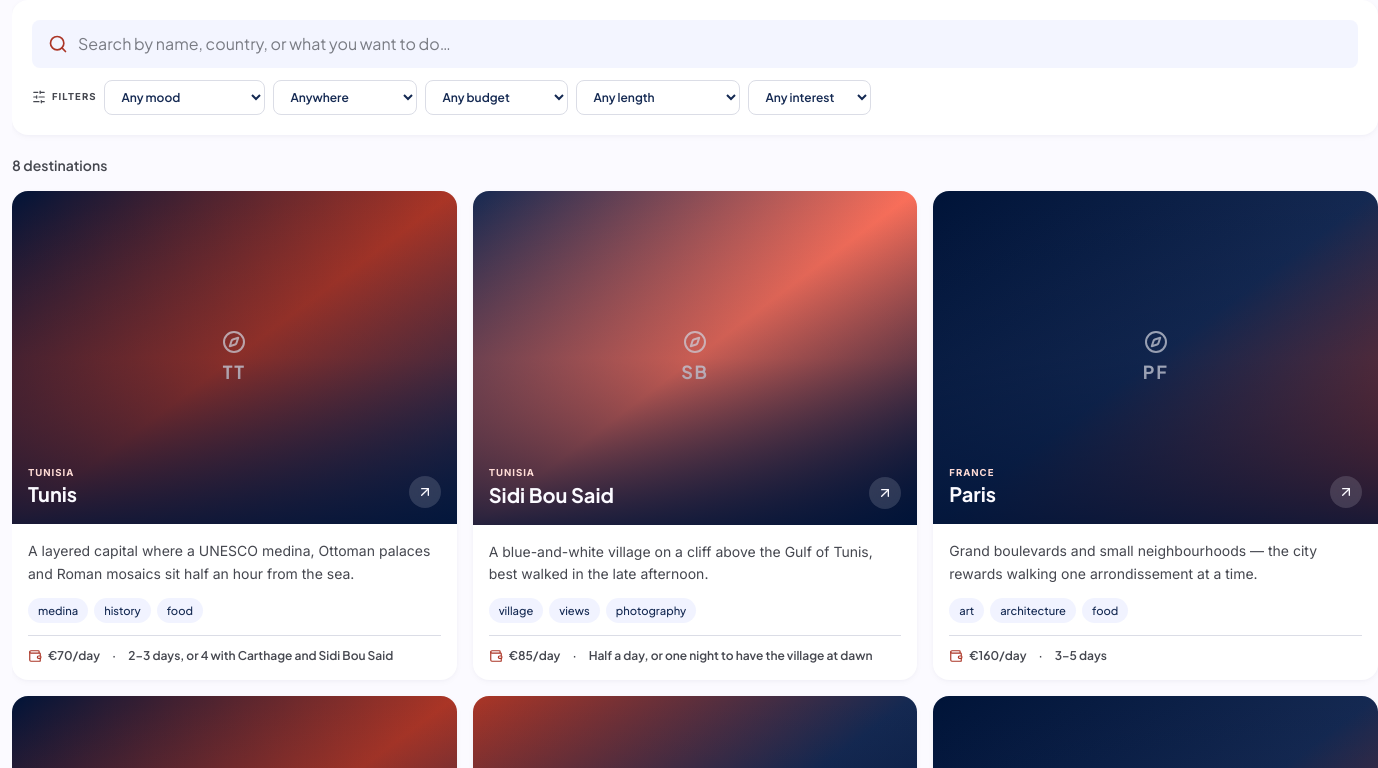
Test: DestinationExplorer › filters as you type, across name, country and tags
The width and height of the screenshot is (1378, 768).
Type "japan" into the search field.
click(710, 44); type("japan")  # box 78,32 -> 1342,56
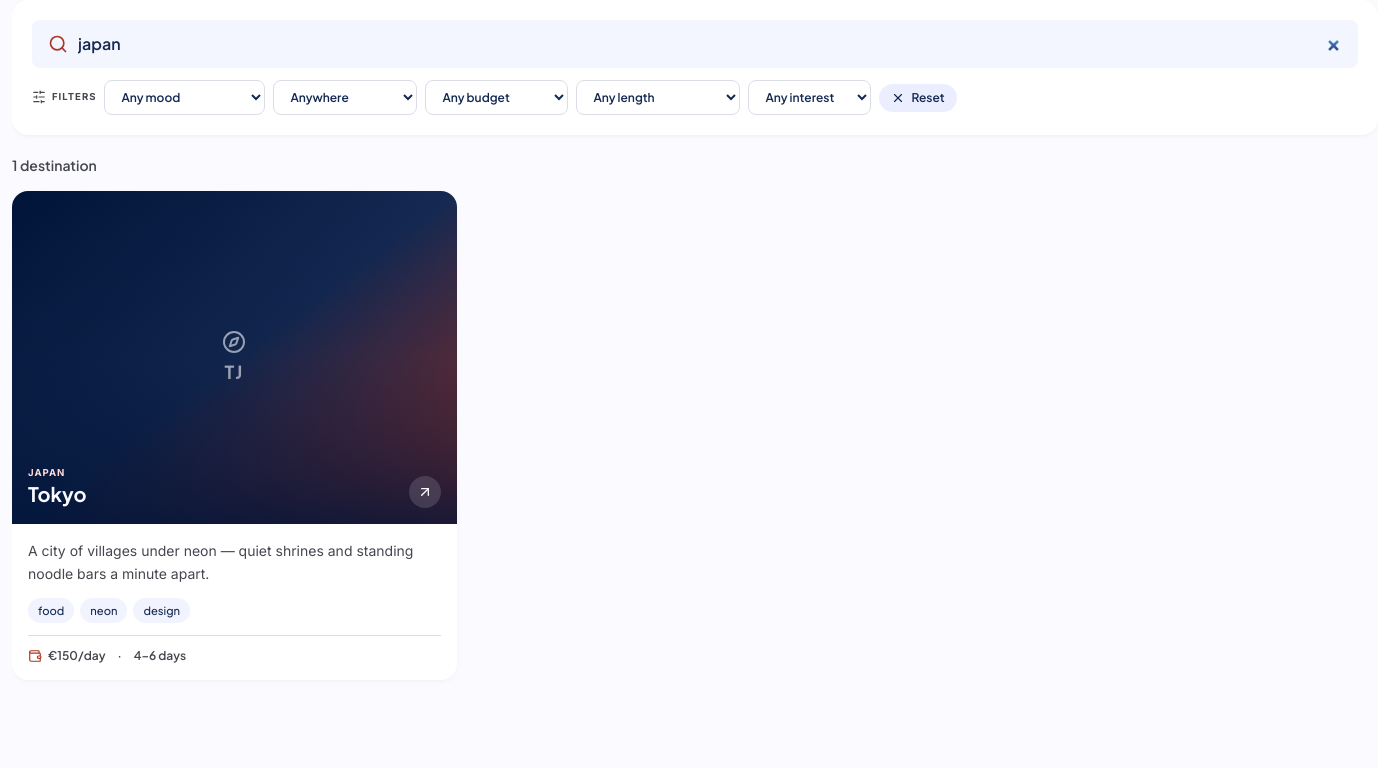
Expected: the text "Tokyo" is shown, 28,480 -> 87,508
Result: the number of list items is 1 at 12,191 -> 457,680
